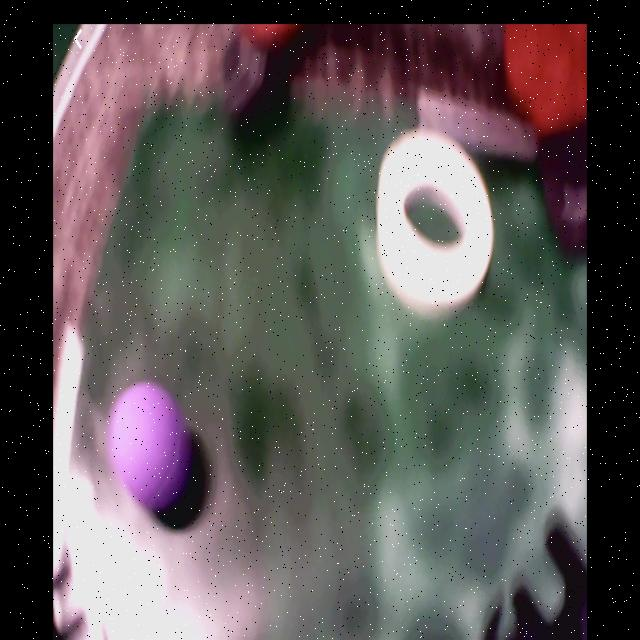ball: (111, 384, 188, 514)
